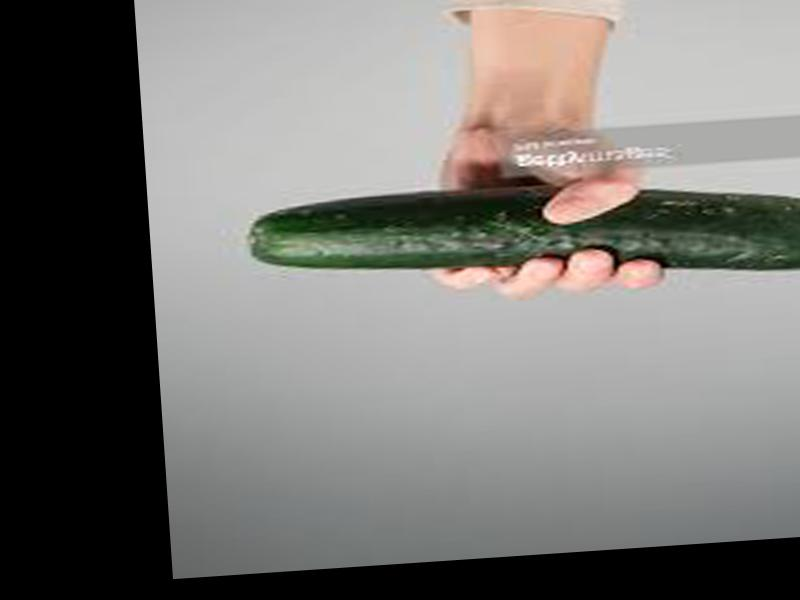Cucumber: (257, 162, 800, 305)
